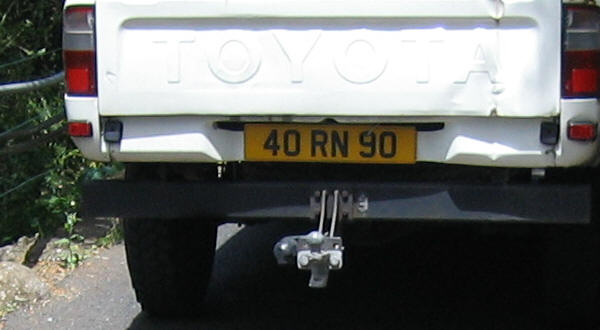license_plate: (243, 121, 419, 165)
